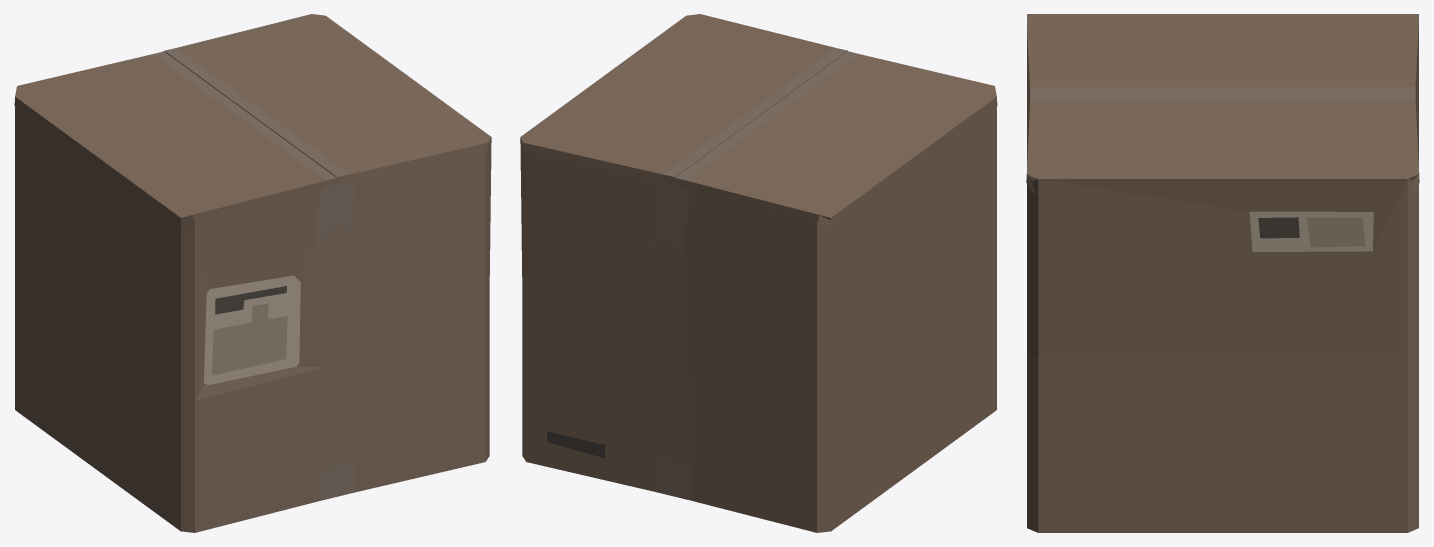
Rendered from Cardboard Box.fbx.
The picture shows the model from 3 angles, left to right: view 1: azimuth 30°, elevation 25°; view 2: azimuth 150°, elevation 25°; view 3: azimuth 270°, elevation 25°; orthographic projection. The views are drawn at different scales.
Visible parts, largest first — view 1: Cube.165; view 2: Cube.165; view 3: Cube.165.
Part boxes in pixels (x1,y1,x2,y2): Cube.165: [14, 14, 491, 532]; Cube.165: [520, 14, 997, 532]; Cube.165: [1026, 14, 1419, 532].
Bounding box in the file's own units: 2075 × 2041 × 2039.
